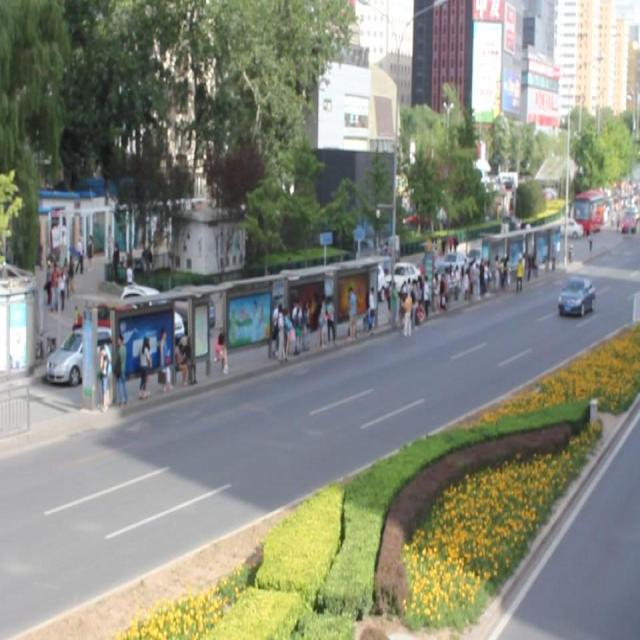car: (557, 273, 594, 316)
